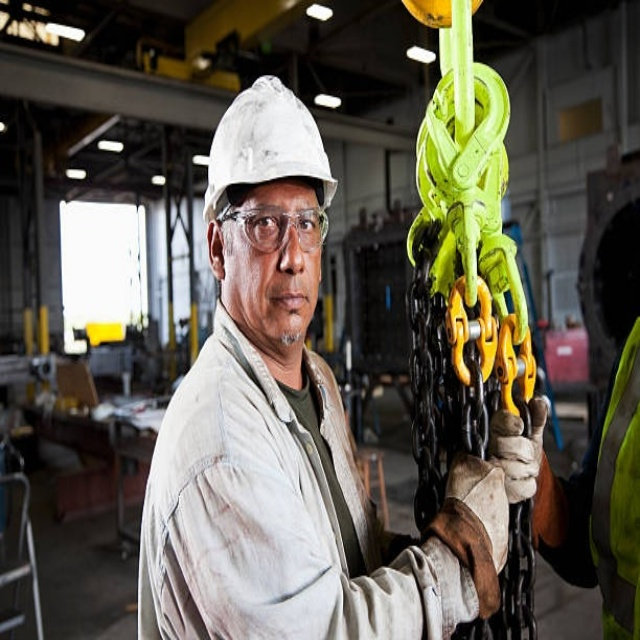Gafas: (219, 206, 328, 254)
Guantes: (421, 450, 511, 627), (487, 398, 548, 505)
Sin_mascara: (267, 282, 312, 336)
